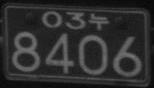0: (78, 33, 108, 76), (41, 9, 62, 28)
3: (64, 10, 86, 30)
4: (44, 32, 74, 74)
6: (112, 36, 142, 78)
8: (11, 30, 40, 72)
누: (87, 12, 109, 31)
